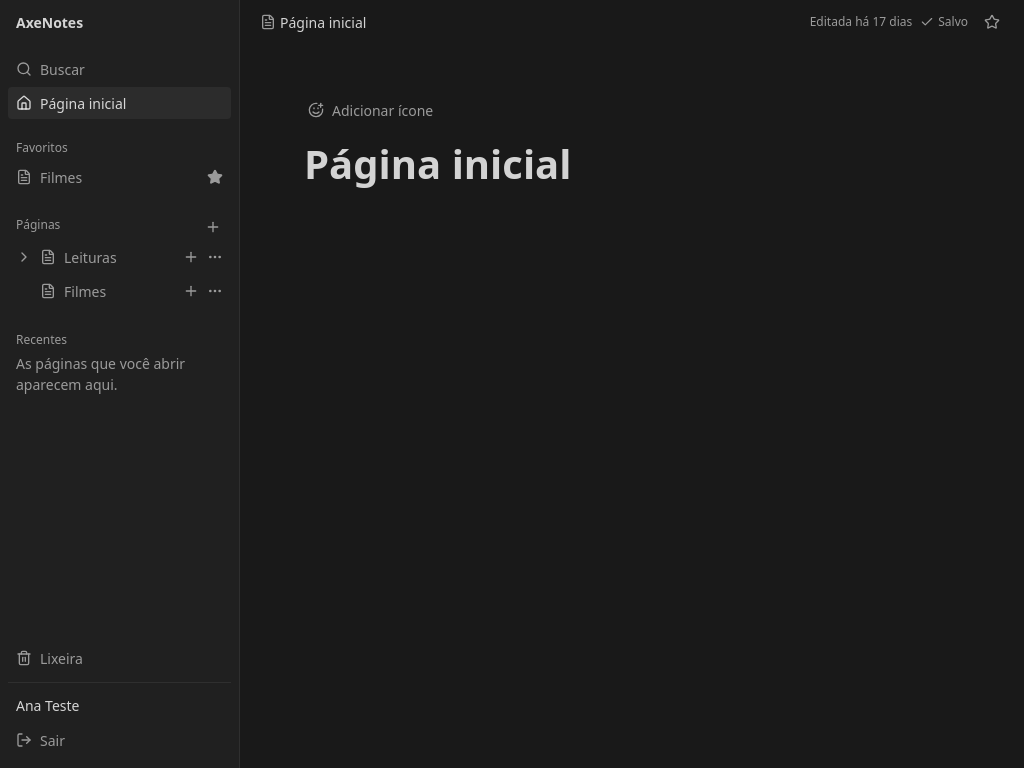
Scenario: favoritar pela árvore › brings a favorite back and warns when removing fails
Click the button named "Remover Filmes dos favoritos" at coordinates (215, 177), box [203, 163, 227, 191]
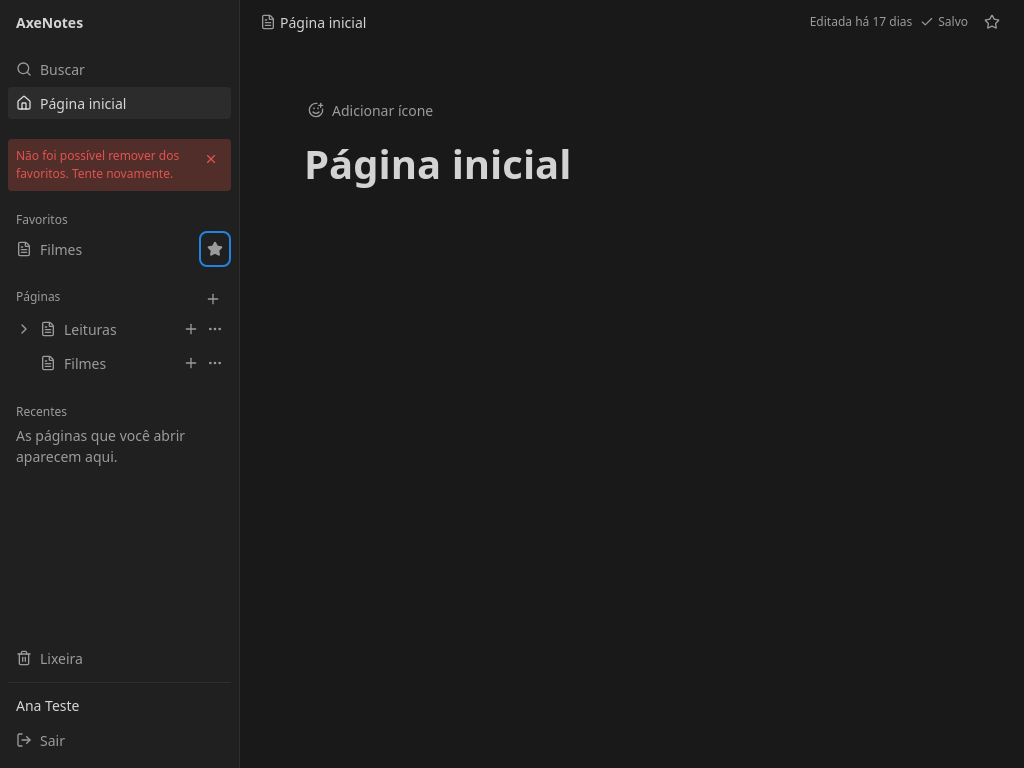
Expected: the 1st link "Filmes" is shown, [16, 240, 82, 258]
Result: the text "Não foi possível remover dos favoritos. Tente novamente." is shown at [16, 143, 191, 187]
